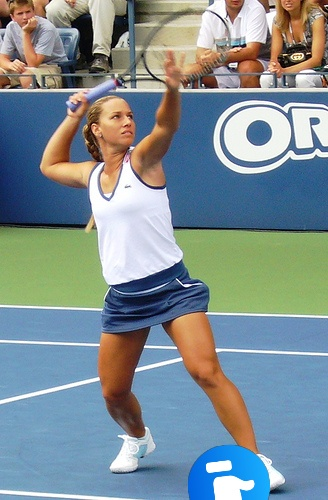like: (188, 445, 270, 500)
